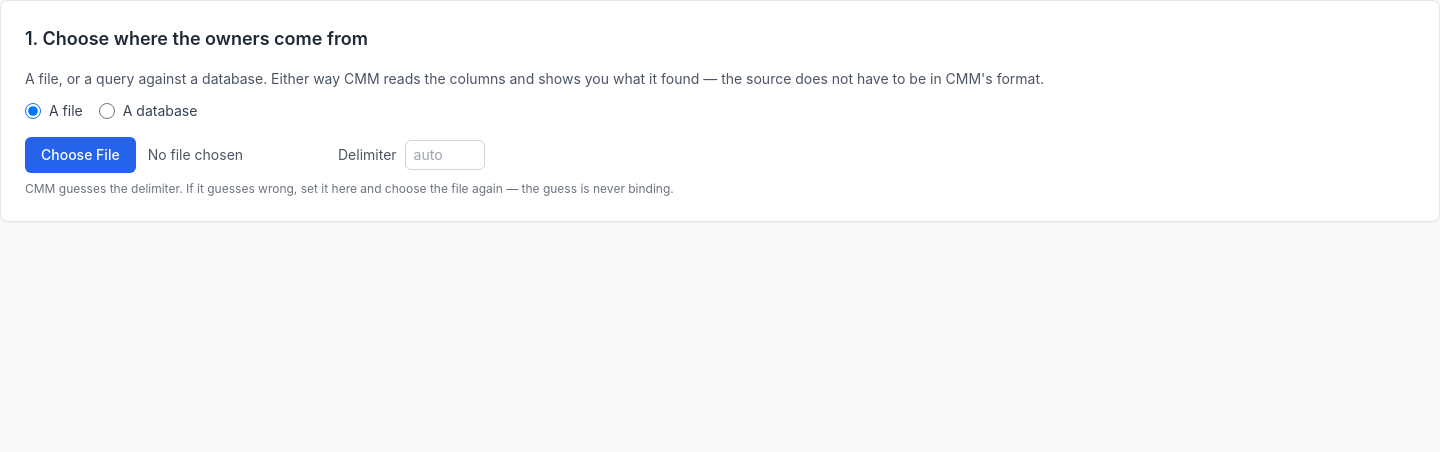
Test: browsing the database › cannot browse before a connection is chosen
The image size is (1440, 452).
What coordinates should you click on to do the following:
click the radio button labelled "A database"
I would click on:
 (107, 111)
Its box is [99,103,115,119].
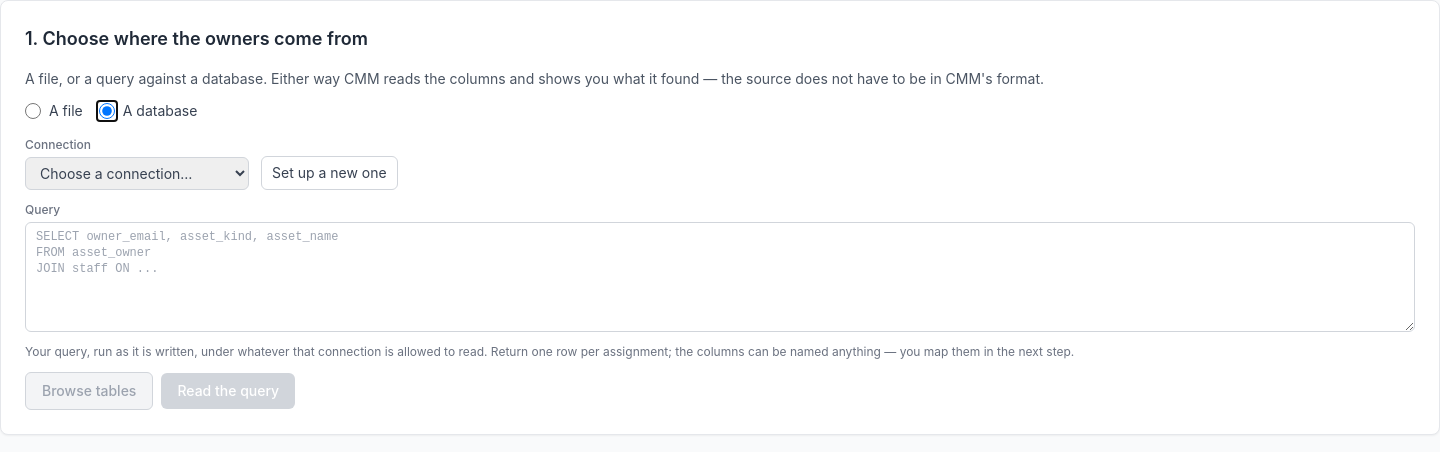
expect the button "Browse tables" is disabled: met, box [25,372,153,410]
